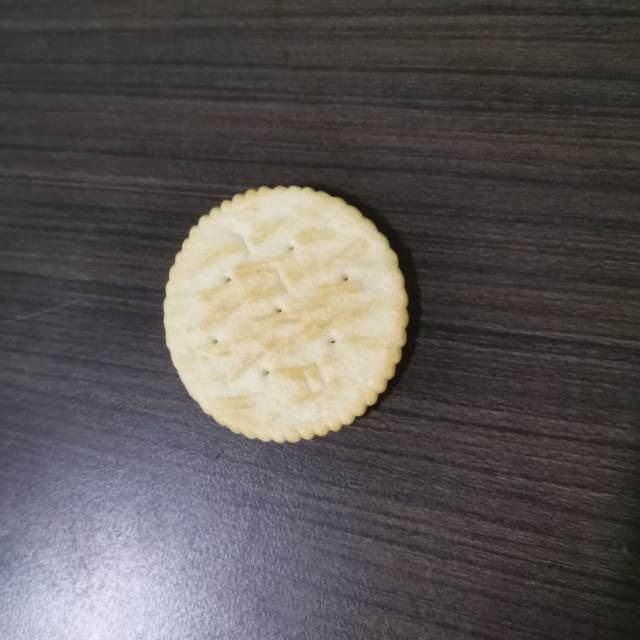Intact: (156, 176, 425, 449)
